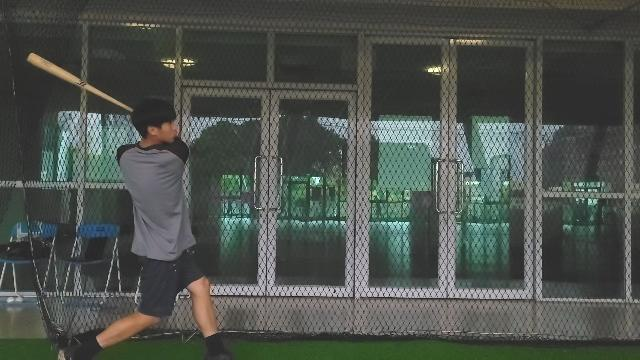baseball bat: (24, 52, 134, 112)
